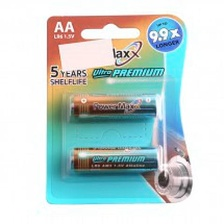battery: (64, 143, 163, 176), (66, 92, 162, 119)
book: (42, 9, 197, 205)
